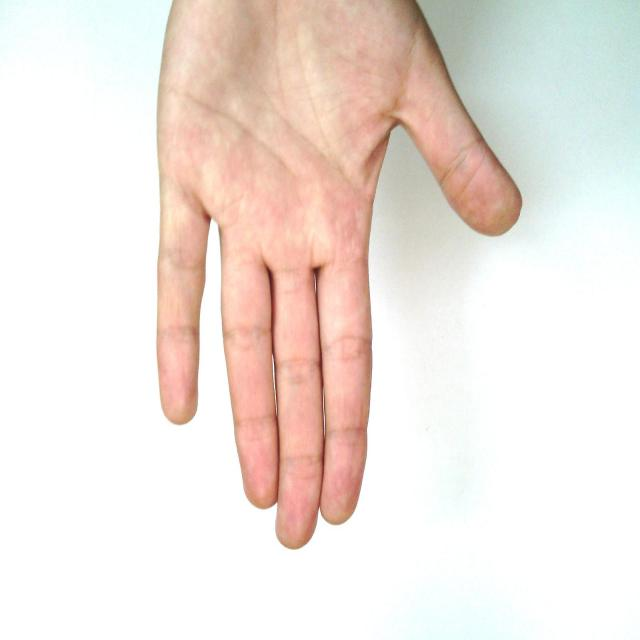others: (139, 0, 539, 567)
